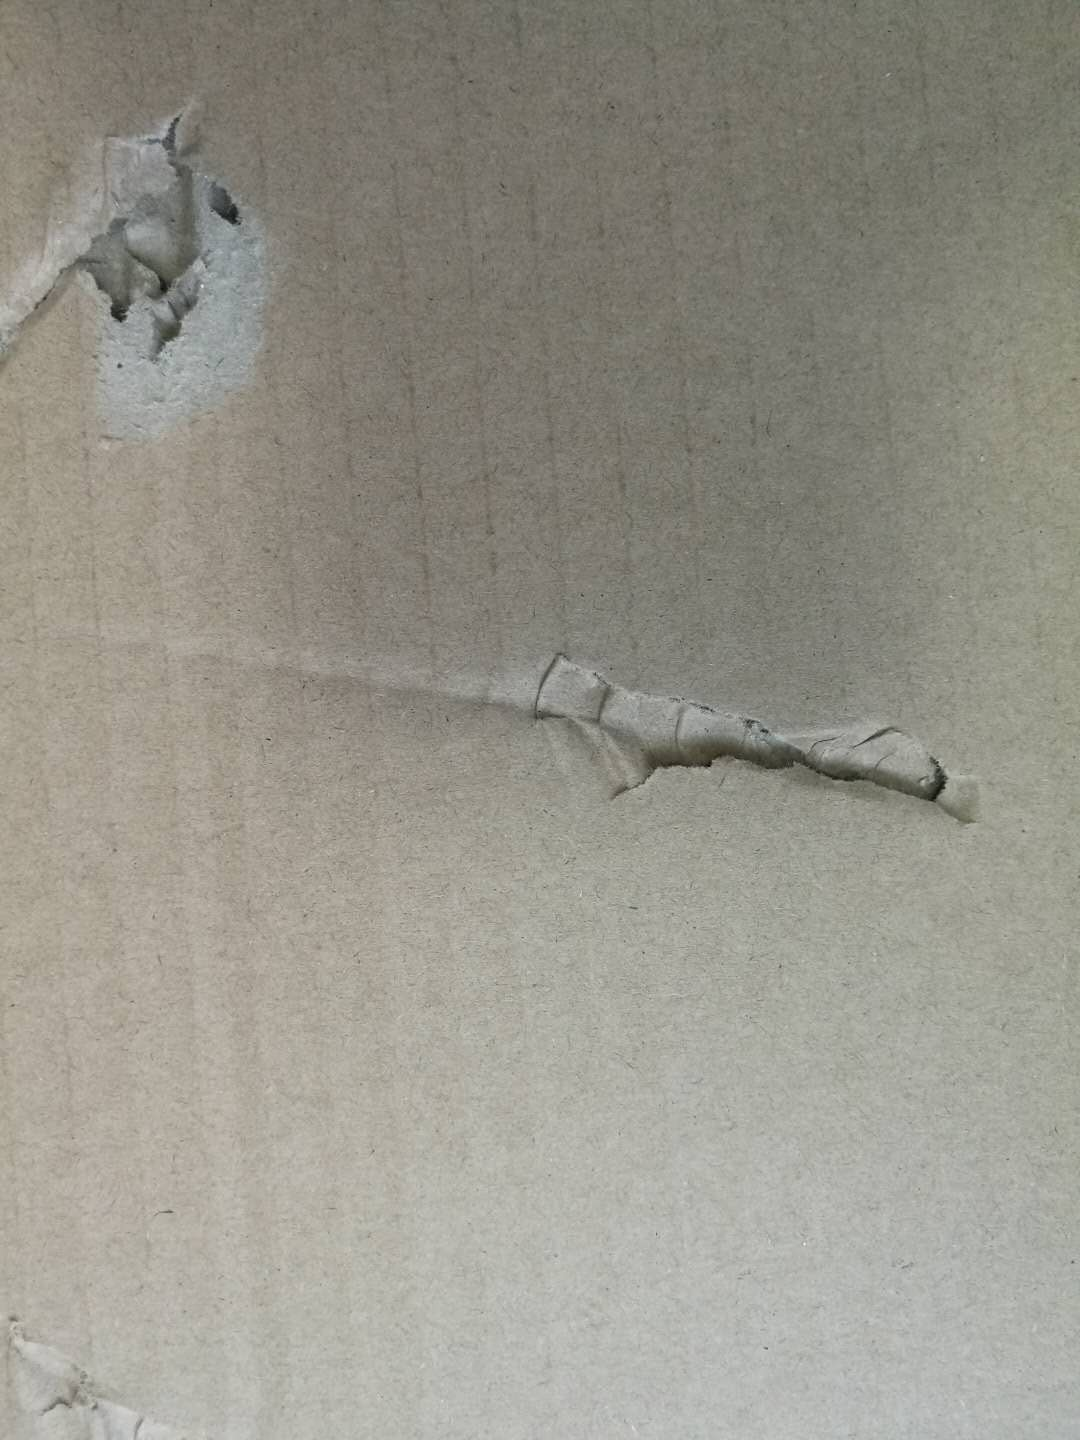defect: (79, 565, 1014, 887), (1, 79, 305, 478), (2, 1282, 212, 1440)
